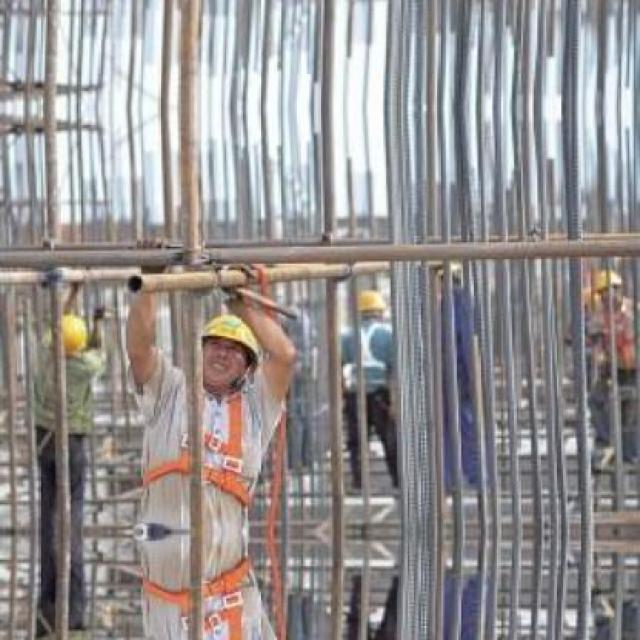helmet: (193, 308, 265, 391), (52, 308, 92, 363), (344, 284, 391, 324)
